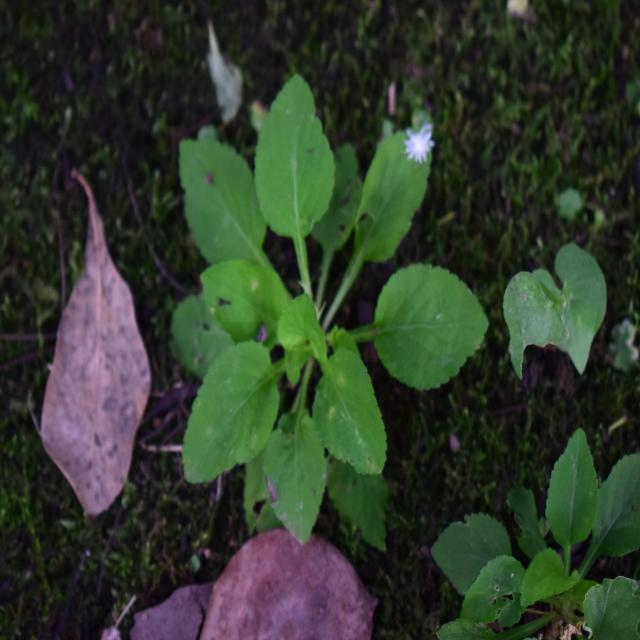Viola: (156, 93, 480, 527)
